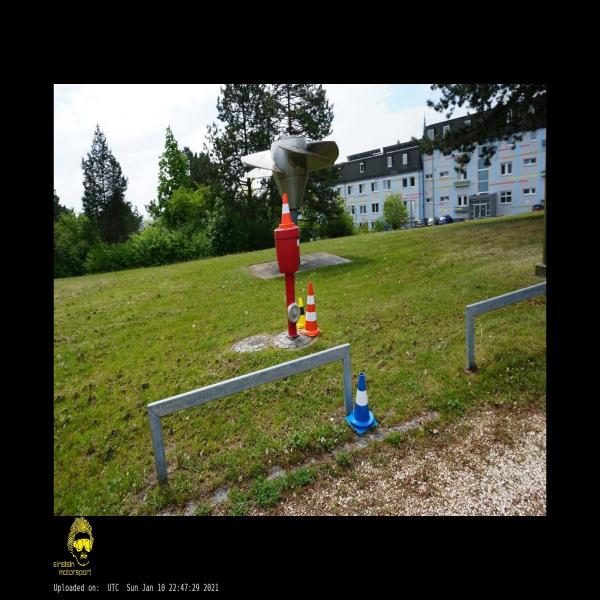blue_cone: (346, 372, 378, 433)
large_orange_cone: (300, 283, 322, 337)
orange_cone: (279, 193, 294, 229)
yellow_cone: (297, 298, 305, 328)
